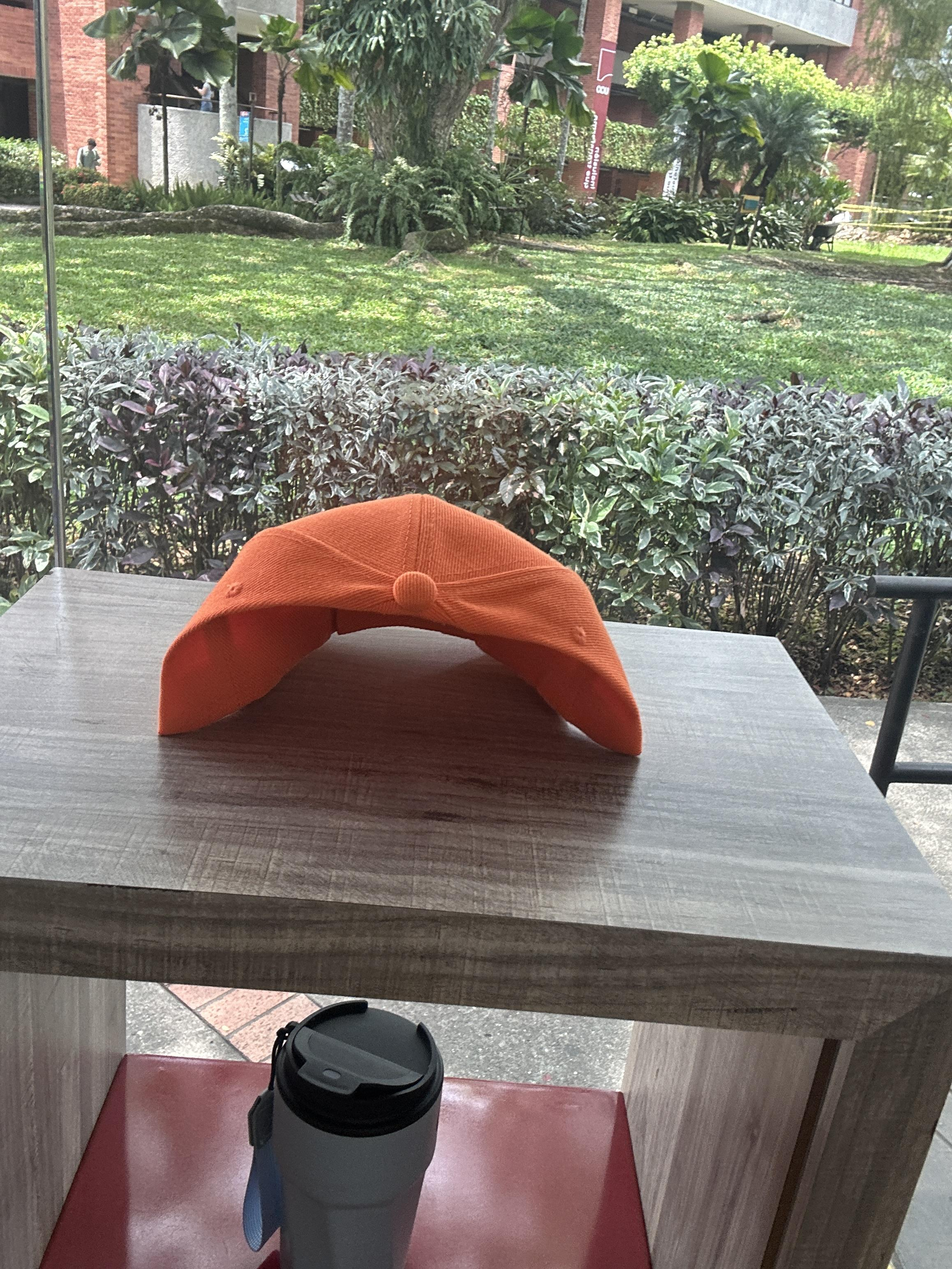gorra: (158, 495, 641, 756)
